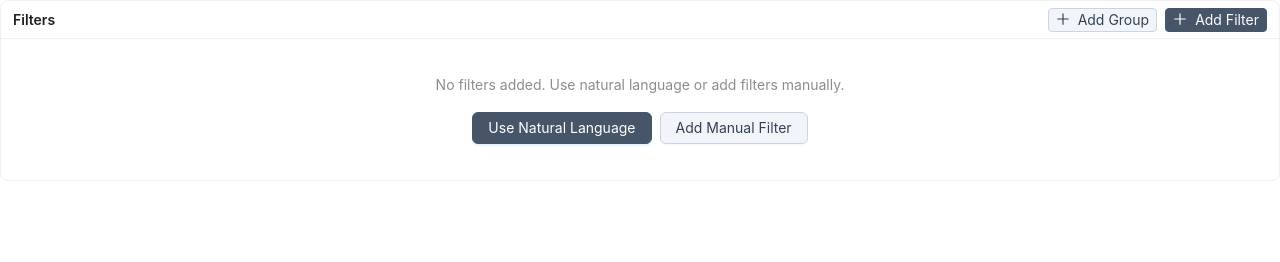
Test: VisualFilterBuilder › removes a filter when delete button is clicked
The width and height of the screenshot is (1280, 262).
Note: Add a filter first
What coordinates should you click on to do the following:
click the button "Add Manual Filter"
I would click on:
 (734, 128)
Its box is [660, 112, 808, 144].
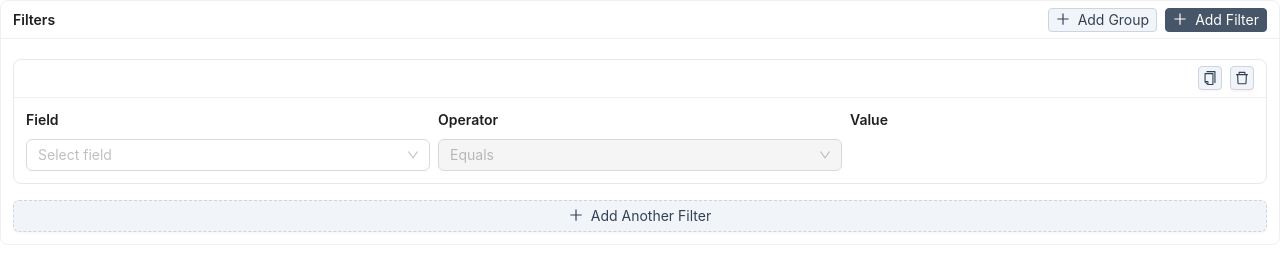
Result: the text "Field" is shown at [26, 110, 59, 128]
What coordinates should you click on to do the following:
click the 4th button
I would click on:
 (1242, 78)
Its box is [1230, 66, 1254, 90].
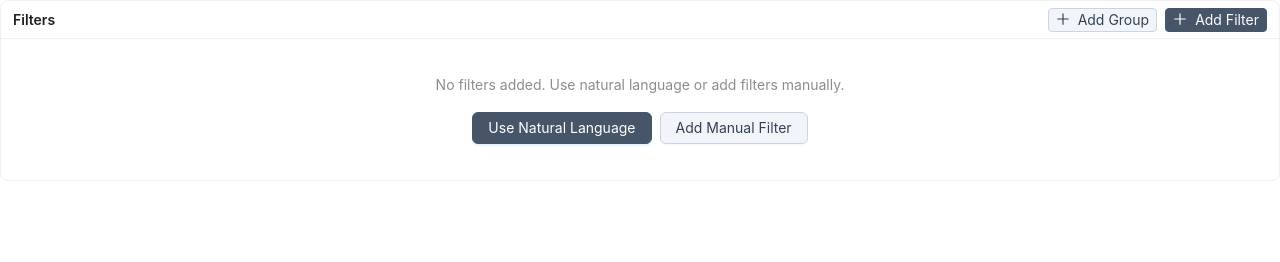
Result: the text "No filters added. Use natural language or add filters manually." is shown at [436, 76, 844, 93]
